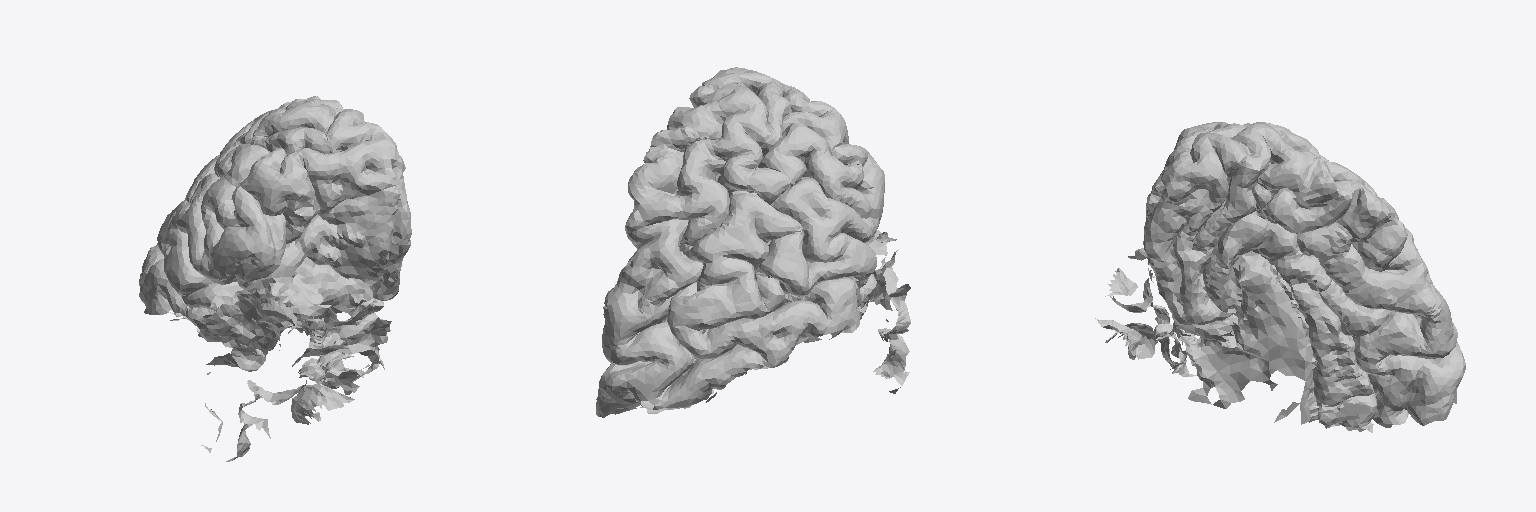
The model's file is R_Frontal_Lobe.obj.
3 views of the same model, side by side, from view 1: azimuth 30°, elevation 25°; view 2: azimuth 150°, elevation 25°; view 3: azimuth 270°, elevation 25° (orthographic).
Parts seen in each view (by area): view 1: Right Frontal Lobe; view 2: Right Frontal Lobe; view 3: Right Frontal Lobe.
Boxes of the visible parts, box(x1,y1,x2,y2) form: Right Frontal Lobe: box(139, 96, 411, 461); Right Frontal Lobe: box(596, 67, 910, 417); Right Frontal Lobe: box(1095, 122, 1465, 432).
Bounding box in the file's own units: 261 × 373 × 423.